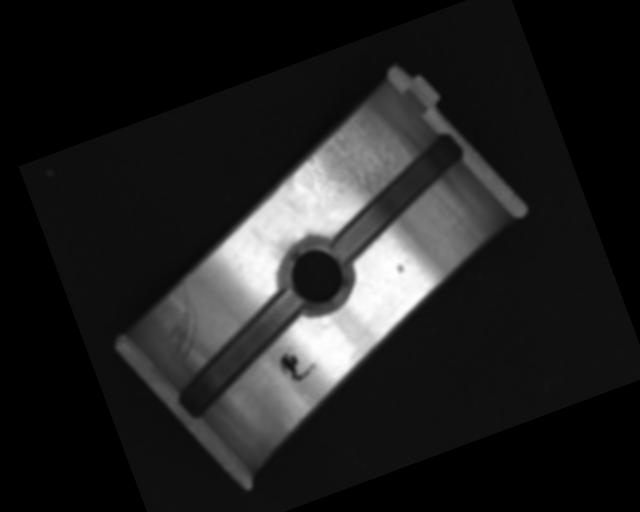blot: (276, 343, 321, 386)
bruise: (395, 262, 406, 275)
gap: (310, 129, 484, 265), (154, 287, 326, 422)
hole: (274, 234, 360, 321)
nick: (147, 277, 213, 365)
scratch: (273, 97, 421, 221)
